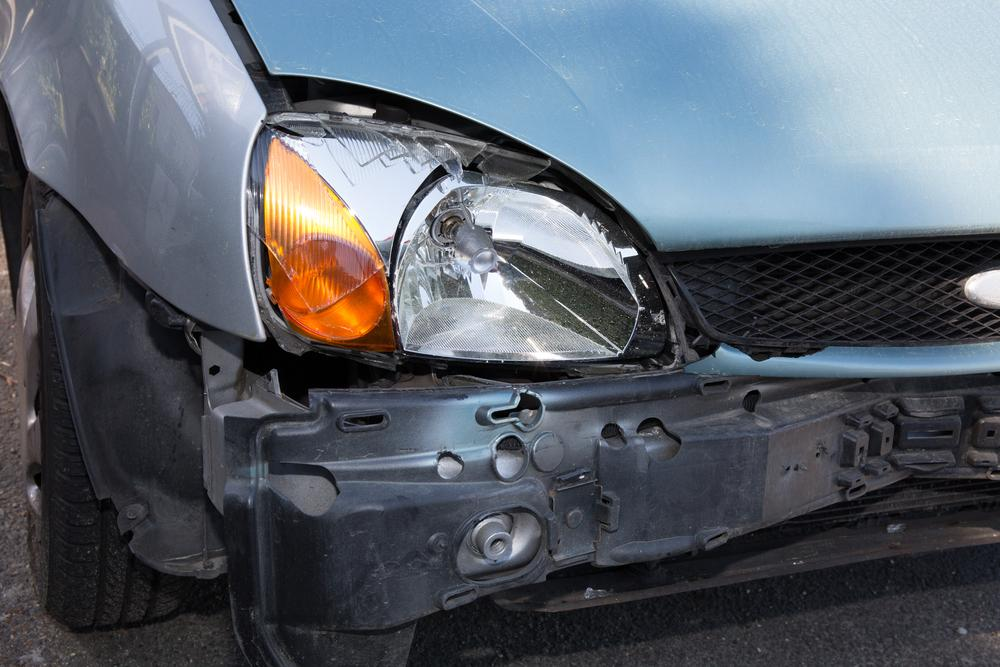lamp broken: (251, 112, 675, 378)
